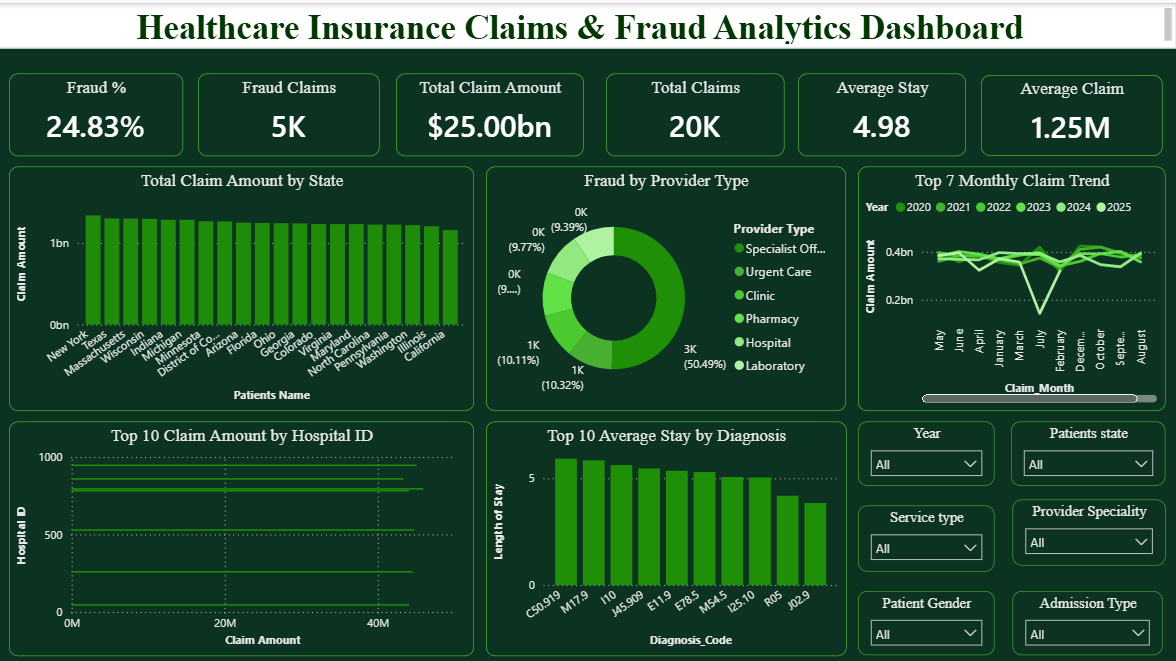

This screenshot's page, from the dashboard's own definition file:
{"tool":"powerbi","page":{"name":"Page 1","canvas":[1280,720],"ordinal":0},"visuals":[{"type":"cardVisual","title":"Fraud %","fields":{"Data":["Cleaned_Data.Fraud %"]},"box":[19.4,76.1,187.8,89.1],"z":0},{"type":"cardVisual","title":"Fraud Claims","fields":{"Data":["Cleaned_Data.Fraud Claims"]},"box":[223.5,76.1,195.9,89.1],"z":1000},{"type":"cardVisual","title":"Total Claim Amount","fields":{"Data":["Cleaned_Data.Total Claim Amount"]},"box":[437.2,76.1,202.4,89.1],"z":2000},{"type":"cardVisual","title":"Total Claims","fields":{"Data":["Cleaned_Data.Total Claims"]},"box":[663.9,76.1,192.7,89.1],"z":3000},{"type":"cardVisual","title":"Average Stay","fields":{"Data":["Cleaned_Data.Average Stay"]},"box":[871.1,76.1,181.4,89.1],"z":4000},{"type":"cardVisual","title":"Average Claim","fields":{"Data":["Cleaned_Data.Average Claim"]},"box":[1068.7,77.7,195.9,87.4],"z":5000},{"type":"textbox","box":[0,0,1279.4,49.1],"z":6000},{"type":"clusteredColumnChart","title":"Total Claim Amount by State","fields":{"Category":["Cleaned_Data.Patient_State_Name"],"Y":["Sum(Cleaned_Data.Claim_Amount)"]},"box":[19.4,176.5,502,263.9],"z":7000},{"type":"donutChart","title":"Fraud by Provider Type","fields":{"Category":["Cleaned_Data.Provider_Type"],"Y":["Cleaned_Data.Fraud Claims"]},"box":[534.3,176.5,388.6,263.9],"z":8000},{"type":"lineChart","title":"Monthly Claim Trend","fields":{"Category":["Cleaned_Data.Claim_Month"],"Series":["Cleaned_Data.Year"],"Y":["Sum(Cleaned_Data.Claim_Amount)"]},"box":[935.9,176.5,331.9,263.9],"z":9000},{"type":"barChart","title":"Top Hospitals by Claim Amount","fields":{"Y":["Sum(Cleaned_Data.Claim_Amount)"],"Category":["Cleaned_Data.Hospital_ID"]},"box":[19,451,502,253],"z":10000},{"type":"columnChart","title":"Top Diagnosis Codes by Average Stay","fields":{"Y":["Avg(Cleaned_Data.Length_of_Stay_Days)"],"Category":["Cleaned_Data.Diagnosis_Code"]},"box":[534,451,389,253],"z":11000},{"type":"slicer","title":"Year","fields":{"Values":["Cleaned_Data.Year"]},"box":[935.9,451.8,147.3,69.6],"z":12000},{"type":"slicer","title":"Patients state","fields":{"Values":["Cleaned_Data.Patient_State_Name"]},"box":[1101.1,451.8,166.8,69.6],"z":13000},{"type":"slicer","title":"Service type","fields":{"Values":["Cleaned_Data.Service_Type"]},"box":[935.9,542.4,147.3,71.2],"z":16000},{"type":"slicer","title":"Provider Speciality","fields":{"Values":["Cleaned_Data.Provider_Specialty"]},"box":[1102.7,536,165.2,71.2],"z":17000},{"type":"slicer","title":"Patient Gender","fields":{"Values":["Cleaned_Data.Patient_Gender"]},"box":[935.9,634.7,147.3,69.6],"z":18000},{"type":"slicer","title":"Admission Type","fields":{"Values":["Cleaned_Data.Admission_Type"]},"box":[1102.7,634.7,161.9,69.6],"z":19000}]}

Visuals, with their boxes in screenshot pixels (x1, y1, x2, y2), scaled from the page's 1280x720 canvas onto the 1176x661 screenshot:
"Fraud %" cardVisual: <bbox>18, 70, 190, 152</bbox>
"Fraud Claims" cardVisual: <bbox>205, 70, 385, 152</bbox>
"Total Claim Amount" cardVisual: <bbox>402, 70, 588, 152</bbox>
"Total Claims" cardVisual: <bbox>610, 70, 787, 152</bbox>
"Average Stay" cardVisual: <bbox>800, 70, 967, 152</bbox>
"Average Claim" cardVisual: <bbox>982, 71, 1162, 152</bbox>
textbox: <bbox>0, 0, 1175, 45</bbox>
"Total Claim Amount by State" clusteredColumnChart: <bbox>18, 162, 479, 404</bbox>
"Fraud by Provider Type" donutChart: <bbox>491, 162, 848, 404</bbox>
"Monthly Claim Trend" lineChart: <bbox>860, 162, 1165, 404</bbox>
"Top Hospitals by Claim Amount" barChart: <bbox>17, 414, 479, 646</bbox>
"Top Diagnosis Codes by Average Stay" columnChart: <bbox>491, 414, 848, 646</bbox>
"Year" slicer: <bbox>860, 415, 995, 479</bbox>
"Patients state" slicer: <bbox>1012, 415, 1165, 479</bbox>
"Service type" slicer: <bbox>860, 498, 995, 563</bbox>
"Provider Speciality" slicer: <bbox>1013, 492, 1165, 557</bbox>
"Patient Gender" slicer: <bbox>860, 583, 995, 647</bbox>
"Admission Type" slicer: <bbox>1013, 583, 1162, 647</bbox>
